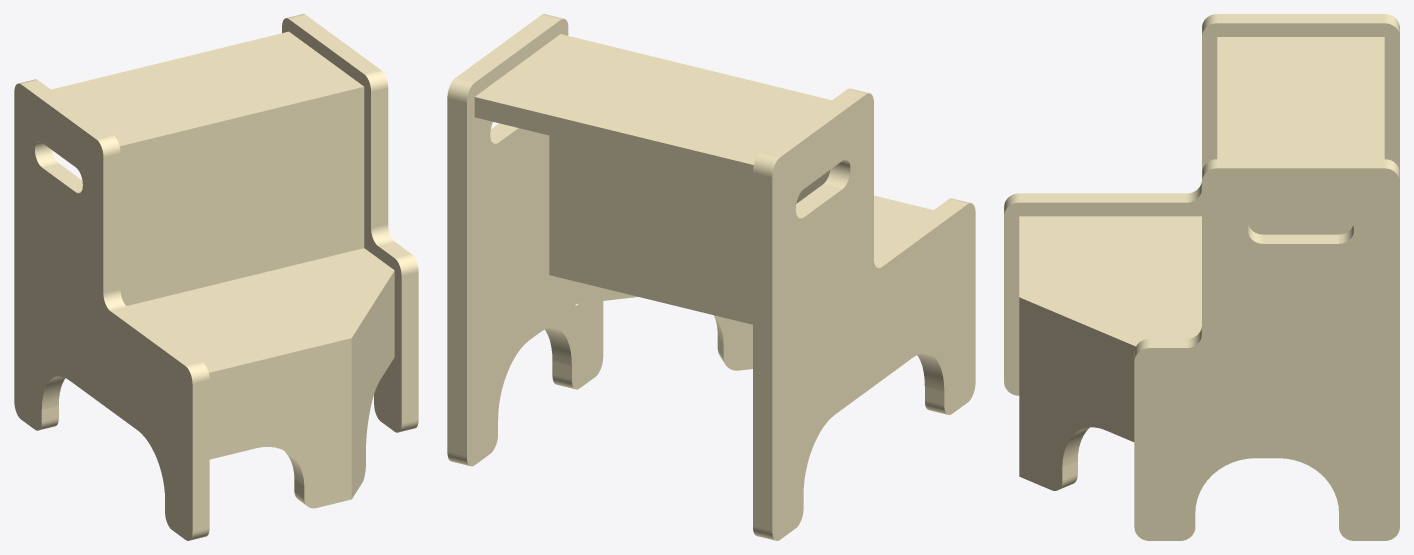
The model's file is CutCornerStepStool.glb.
3 views of the same model, side by side, from view 1: azimuth 30°, elevation 25°; view 2: azimuth 150°, elevation 25°; view 3: azimuth 270°, elevation 25° (orthographic). The views are drawn at different scales.
Visible parts, largest first — view 1: StepsSide sheet, TopStepKick sheet, TopStep sheet, BottomStep sheet, BottomStepKick sheet, StepsSideRight sheet, CutShelfFace sheet; view 2: StepsSide sheet, StepsSideRight sheet, TopStepKick sheet, TopStep sheet, CutShelfFace sheet, BottomStep sheet; view 3: StepsSideRight sheet, BottomStep sheet, TopStep sheet, StepsSide sheet, CutShelfFace sheet.
Part boxes in pixels (box(x1,y1,x2,y2)): StepsSide sheet: box(14, 79, 209, 540); TopStepKick sheet: box(120, 96, 364, 305); TopStep sheet: box(51, 31, 364, 154); BottomStep sheet: box(127, 248, 394, 381); BottomStepKick sheet: box(209, 347, 351, 508); StepsSideRight sheet: box(282, 14, 418, 432); CutShelfFace sheet: box(351, 280, 394, 498); StepsSide sheet: box(753, 88, 975, 540); StepsSideRight sheet: box(447, 14, 603, 466); TopStepKick sheet: box(549, 135, 830, 324); TopStep sheet: box(474, 34, 831, 184); CutShelfFace sheet: box(575, 281, 752, 370); BottomStep sheet: box(874, 195, 933, 253); StepsSideRight sheet: box(1134, 159, 1399, 540); BottomStep sheet: box(1019, 216, 1201, 355); TopStep sheet: box(1217, 37, 1384, 159); StepsSide sheet: box(1004, 14, 1399, 395); CutShelfFace sheet: box(1019, 307, 1134, 490).
Bounding box in the file's own units: 0.3048 × 0.3429 × 0.3302.
